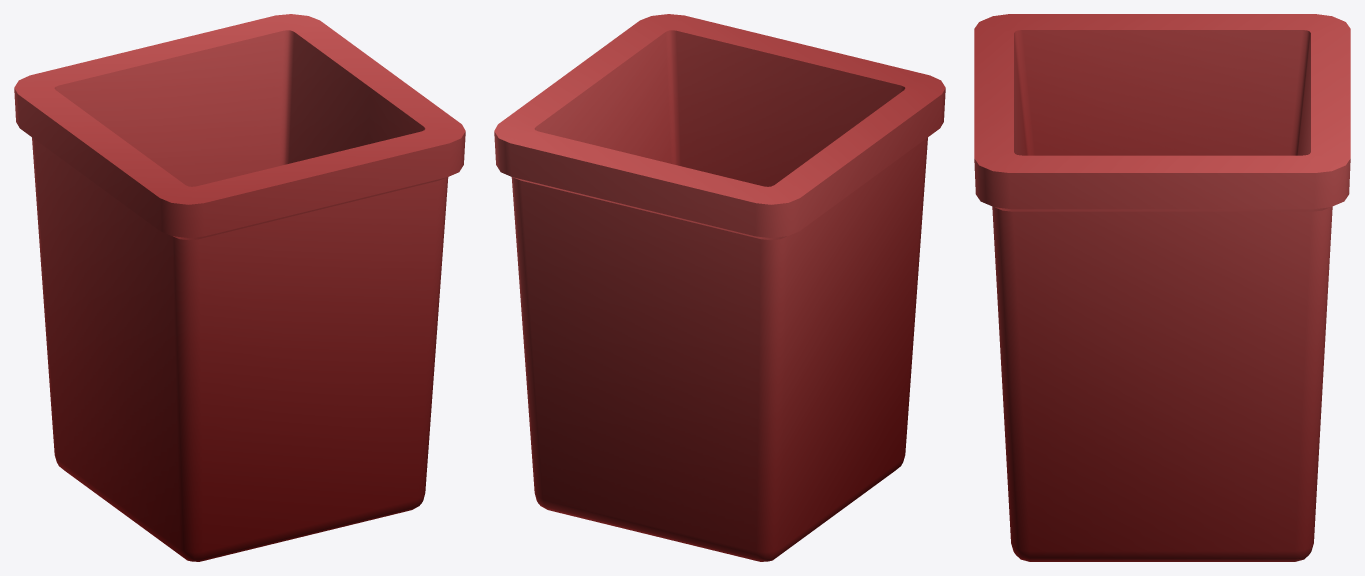
File: Waste Bin_4.fbx
The picture shows the model from 3 angles, left to right: view 1: azimuth 30°, elevation 25°; view 2: azimuth 150°, elevation 25°; view 3: azimuth 270°, elevation 25°; orthographic projection. The views are drawn at different scales.
Parts seen in each view (by area): view 1: Waste Bin_4; view 2: Waste Bin_4; view 3: Waste Bin_4.
Part boxes in pixels (bbox=[...]): Waste Bin_4: bbox=[14, 14, 465, 561]; Waste Bin_4: bbox=[494, 14, 945, 561]; Waste Bin_4: bbox=[974, 14, 1350, 561].
Bounding box in the file's own units: 0.6333 × 0.764 × 0.6333.
